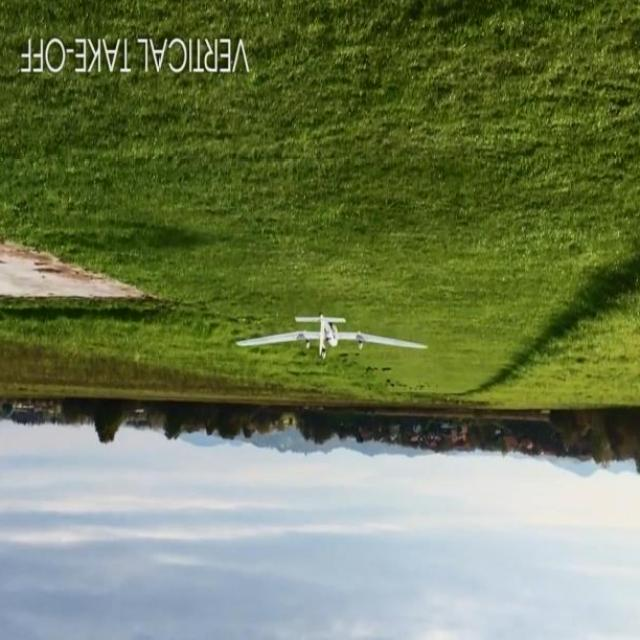plane: (236, 314, 430, 361)
